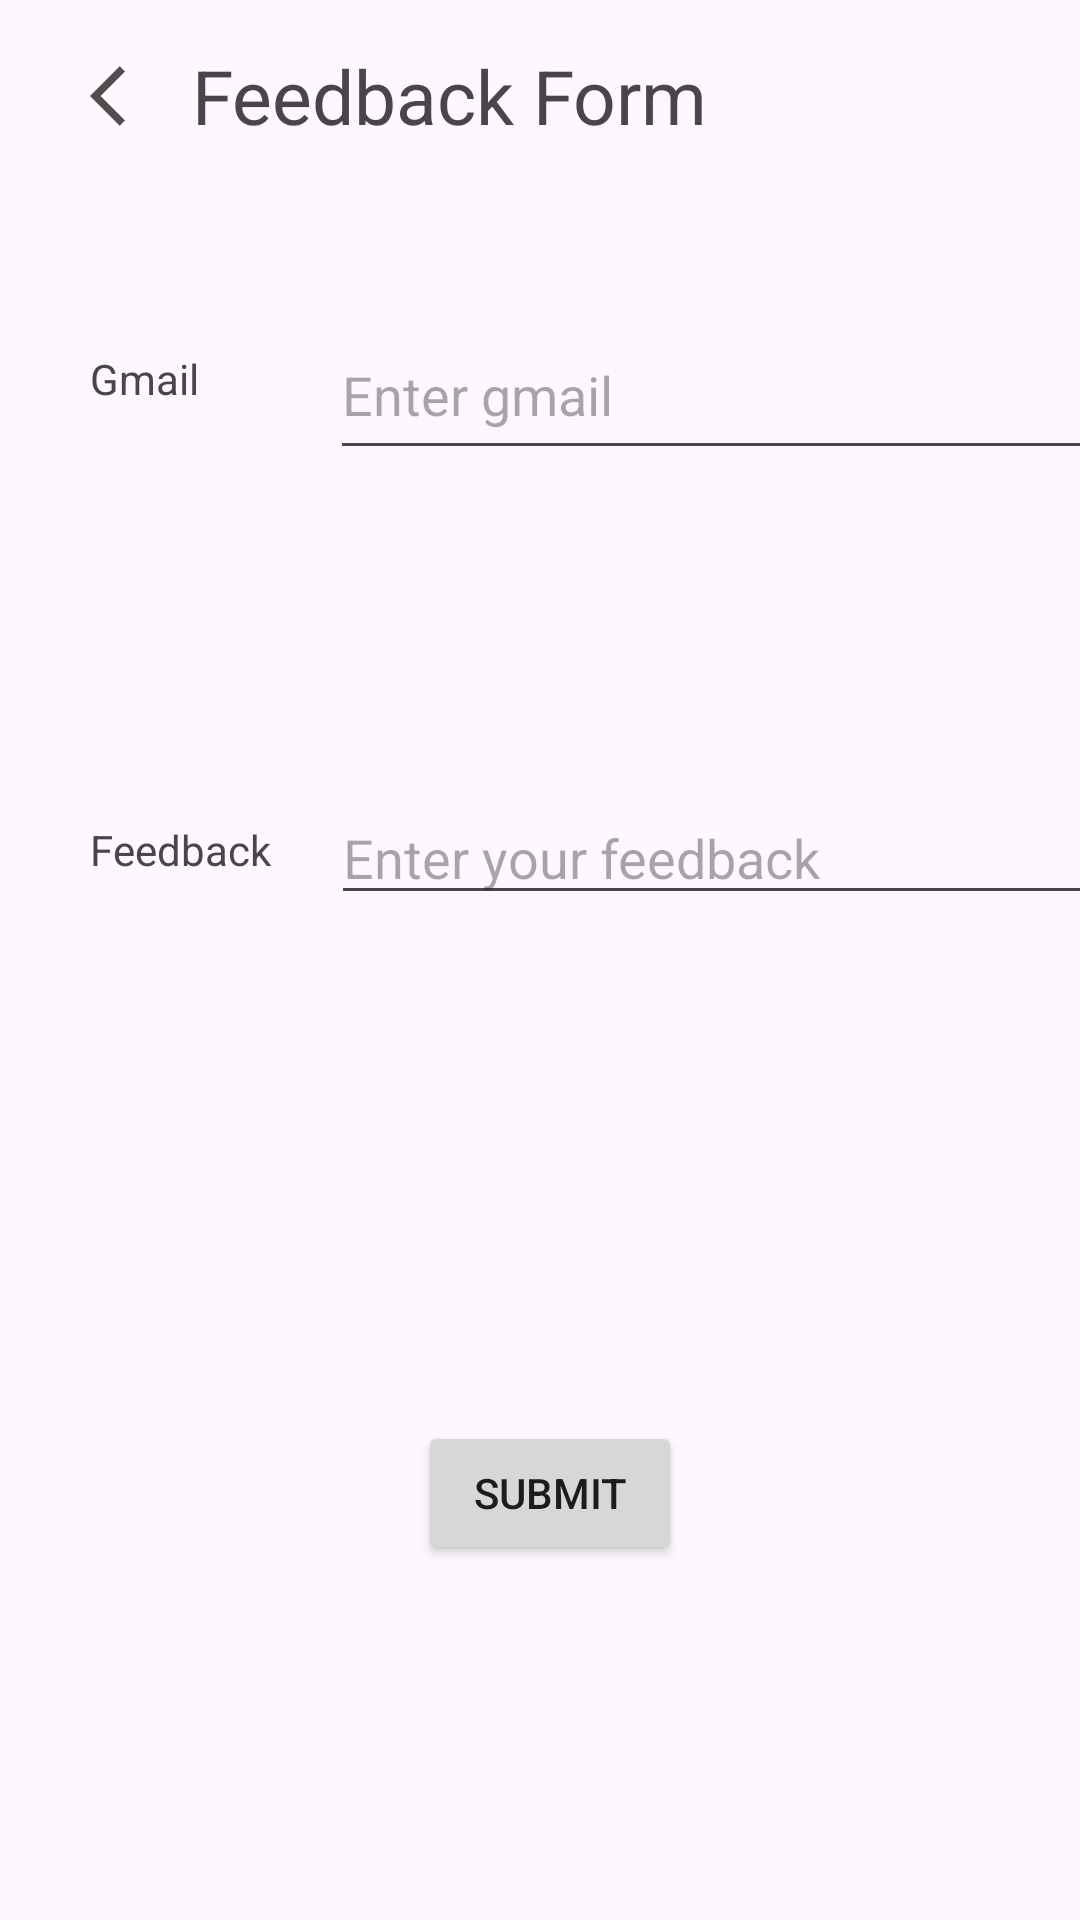

Icon click points for this 1080x1920 phone screenshot, format (x=x, y=y):
arrow back: (x=107, y=96)
